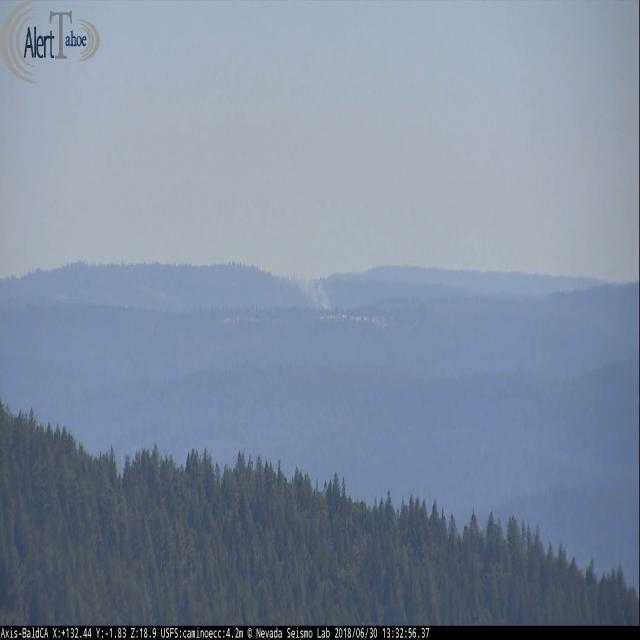smoke: (300, 278, 332, 312)
